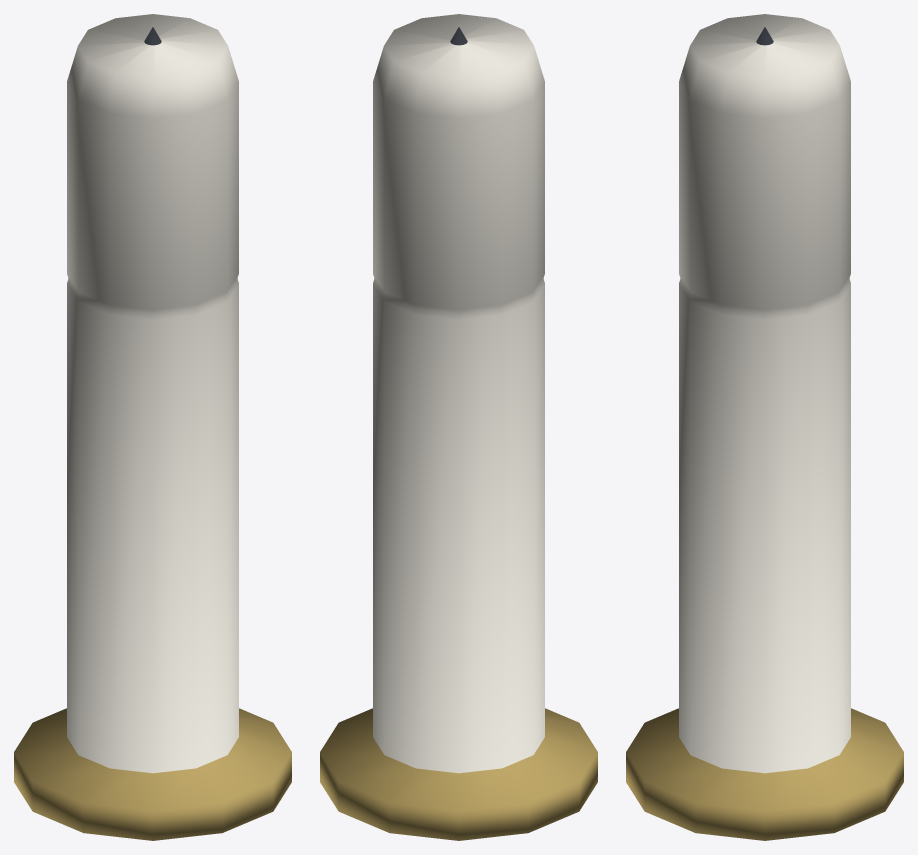
The model's file is candle.glb.
3 renders of one model, left to right at view 1: azimuth 30°, elevation 25°; view 2: azimuth 150°, elevation 25°; view 3: azimuth 270°, elevation 25°, orthographic.
Visible parts, largest first — view 1: candle; view 2: candle; view 3: candle.
Boxes of the visible parts, box(x1,y1,x2,y2) form: candle: box(14, 14, 291, 840); candle: box(320, 14, 597, 840); candle: box(626, 14, 903, 840).
Bounding box in the file's own units: 0.05 × 0.15 × 0.05.
